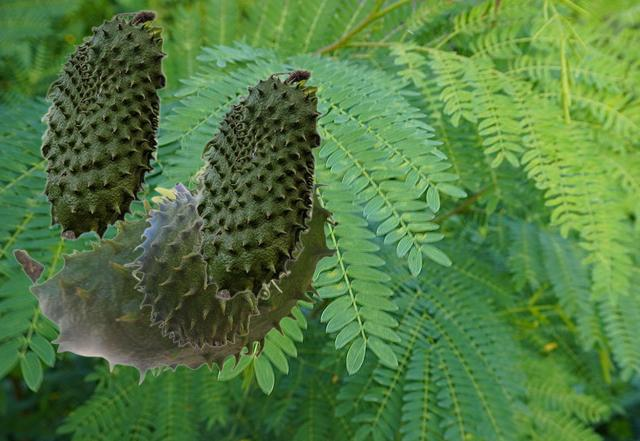guyabano: (12, 163, 338, 385), (39, 9, 167, 240), (194, 68, 322, 299), (123, 181, 284, 349)
